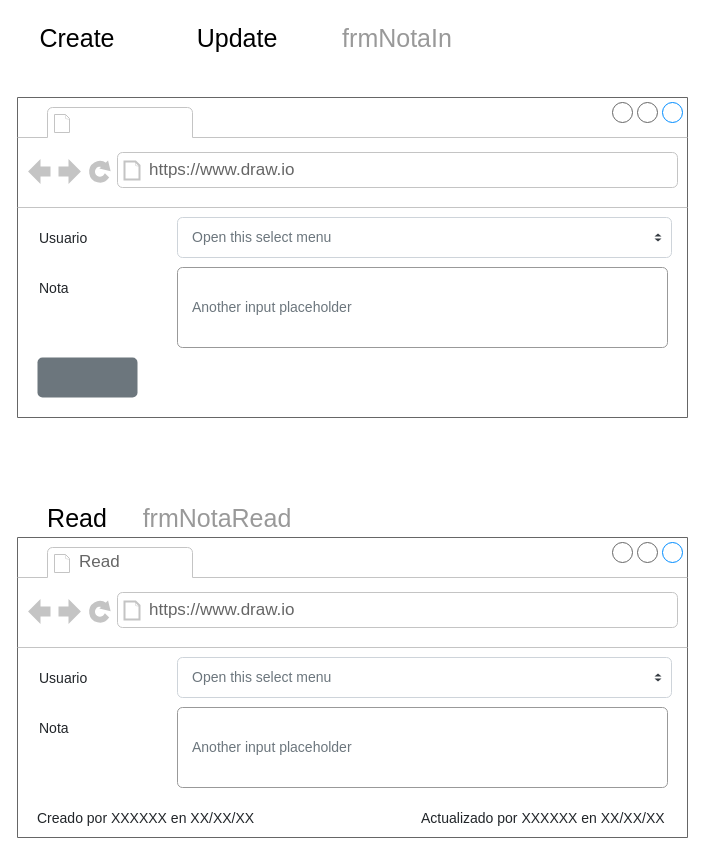
Some shapes in this 705 by 855 pixel diagram are drawn without their labels. Each missing label, with the centre of its shape:
"Create/Update Nota" goes at [167,122].
"Guardar" goes at [87,377].
